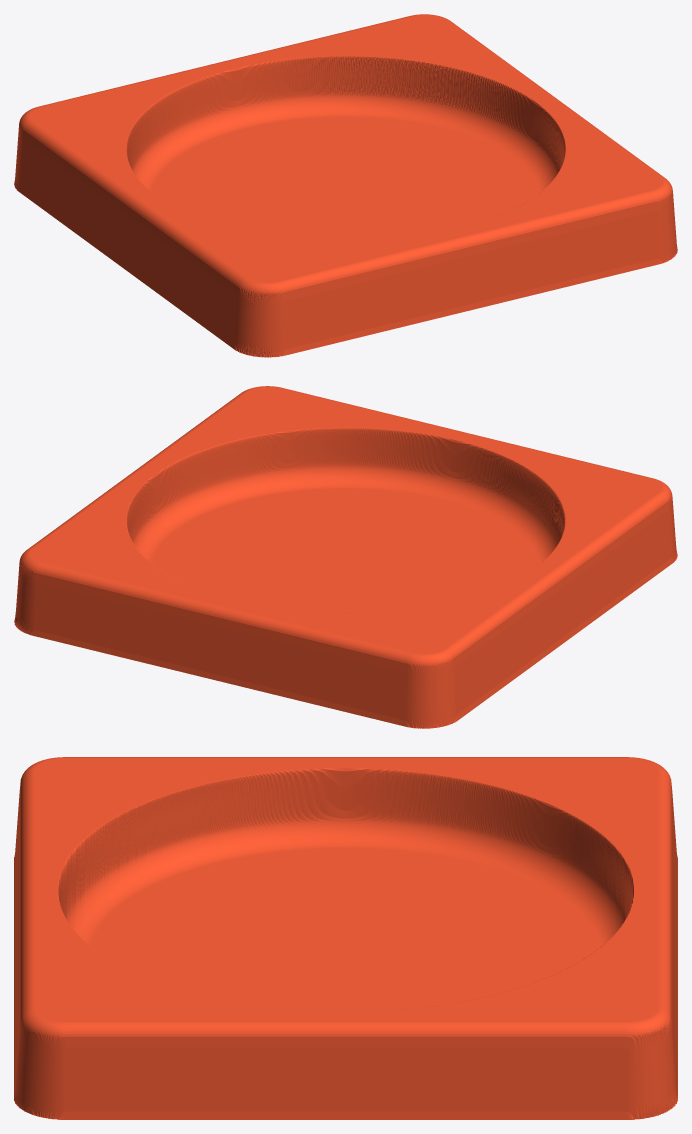
Rendered from mold.glb.
3 renders of one model, top to bottom at view 1: azimuth 30°, elevation 25°; view 2: azimuth 150°, elevation 25°; view 3: azimuth 270°, elevation 25°, orthographic. The views are drawn at different scales.
Parts seen in each view (by area): view 1: geometry_0; view 2: geometry_0; view 3: geometry_0.
Boxes of the visible parts, x1=… form: geometry_0: x1=14, y1=14, x2=677, y2=357; geometry_0: x1=14, y1=386, x2=677, y2=728; geometry_0: x1=14, y1=757, x2=677, y2=1119.
Size of the model in its own units: 0.1178 by 0.0175 by 0.1178.
